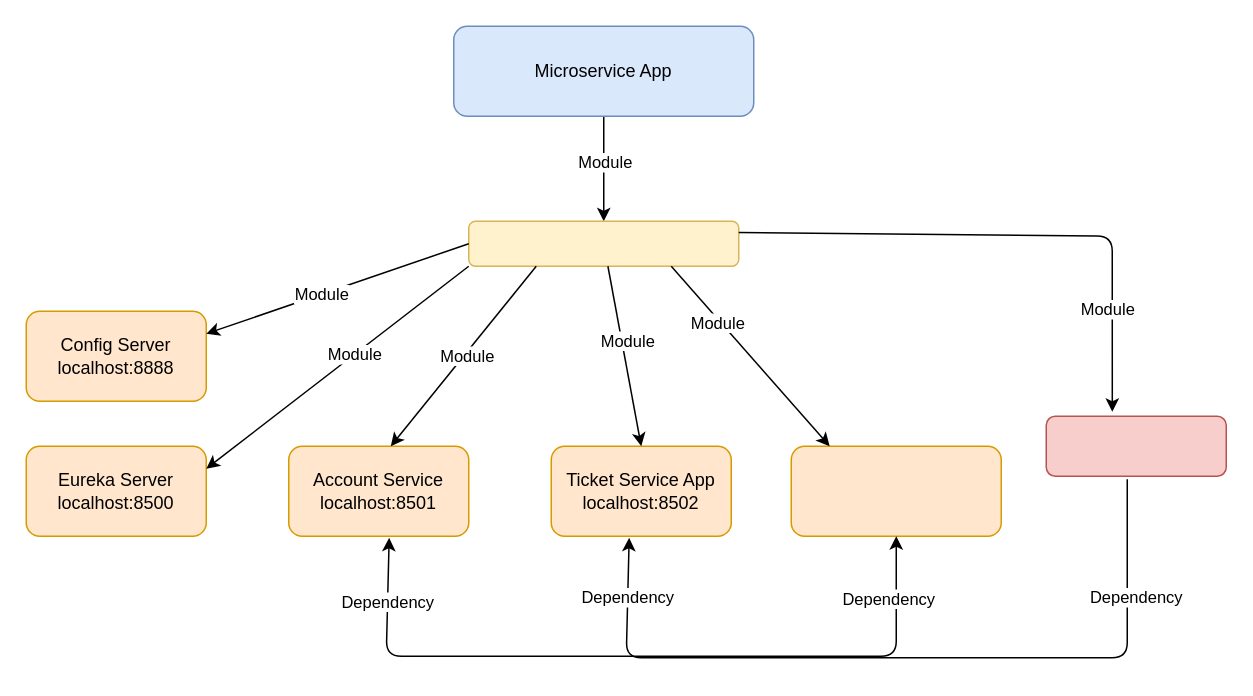
This 1253x696 diagram has some shape labels left out. The box of each missing label's shape, as (x1, y1, x2, y2) in pixels:
Common Service App: (1045, 415, 1226, 476)
Notification Service App localhost:8503: (790, 445, 1001, 536)
Service Parent: (467, 220, 739, 266)
